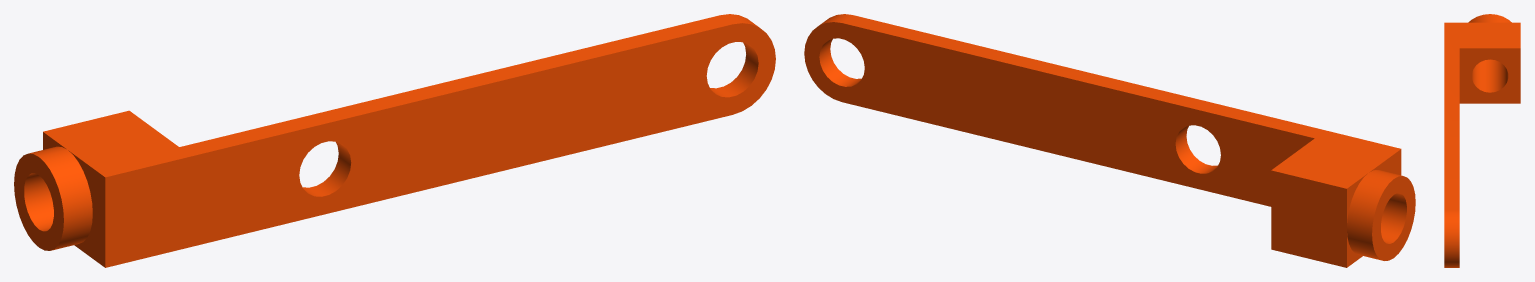
3 views of the same model, side by side, from view 1: azimuth 30°, elevation 25°; view 2: azimuth 150°, elevation 25°; view 3: azimuth 270°, elevation 25° (orthographic). The views are drawn at different scales.
Visible parts, largest first — view 1: link_3_1; view 2: link_3_1; view 3: link_3_1.
Boxes of the visible parts, left/top/right/bottom form: link_3_1: left=14, top=14, right=775, bottom=267; link_3_1: left=804, top=14, right=1415, bottom=267; link_3_1: left=1444, top=14, right=1520, bottom=267.
Bounding box in the file's own units: 485 × 75 × 60.
